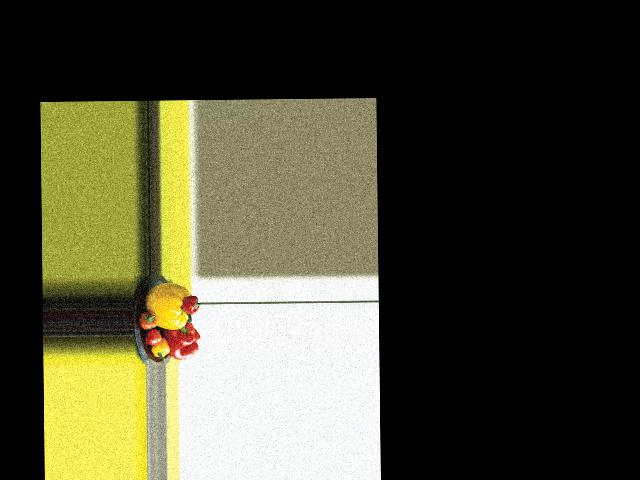bell_pepper: (152, 339, 170, 359)
